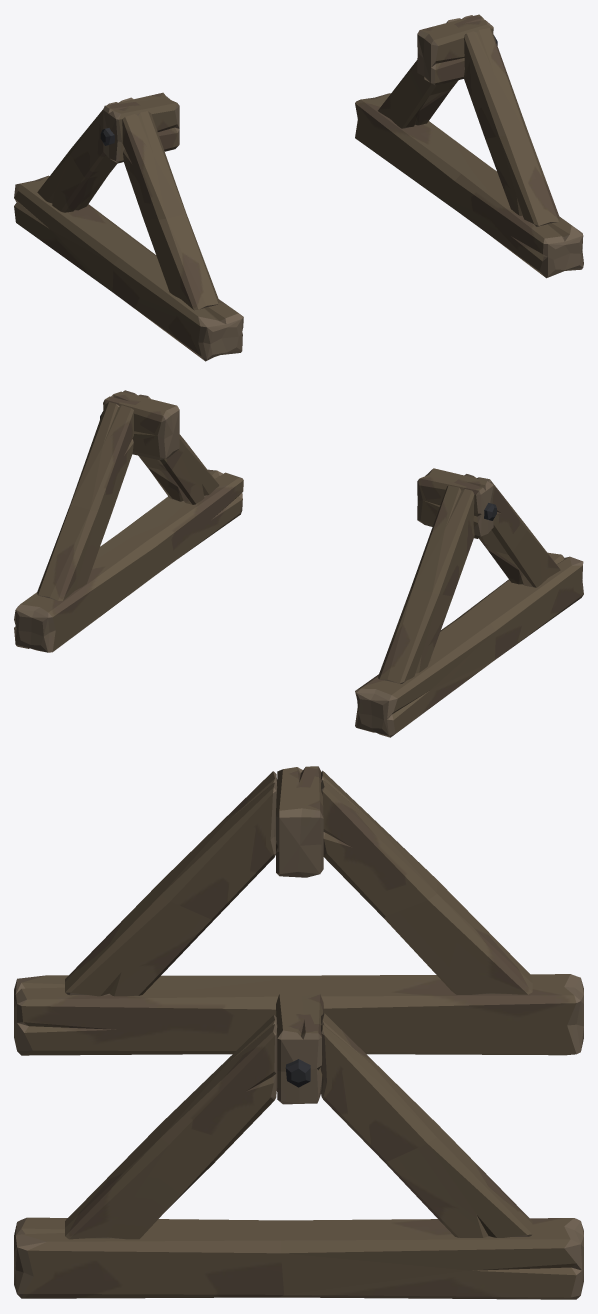
Rendered from kingdom_SM_Wep_Hot_Oil_02.gltf.
The picture shows the model from 3 angles, top to bottom: view 1: azimuth 30°, elevation 25°; view 2: azimuth 150°, elevation 25°; view 3: azimuth 270°, elevation 25°; orthographic projection. The views are drawn at different scales.
Parts seen in each view (by area): view 1: SM_Wep_Hot_Oil_02; view 2: SM_Wep_Hot_Oil_02; view 3: SM_Wep_Hot_Oil_02.
Boxes of the visible parts, left/top/right/bottom form: SM_Wep_Hot_Oil_02: left=14, top=14, right=583, bottom=361; SM_Wep_Hot_Oil_02: left=14, top=390, right=583, bottom=737; SM_Wep_Hot_Oil_02: left=14, top=766, right=583, bottom=1299.
Size of the model in its own units: 1.36 by 0.6055 by 1.17.
Materials: 1 (1 with a texture image).
